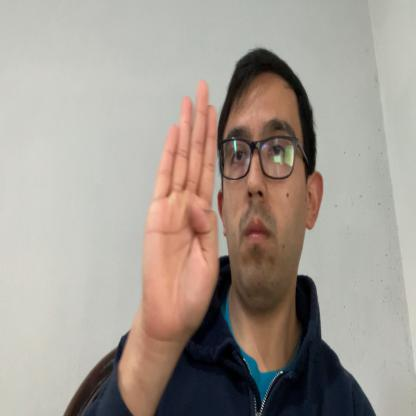B: (142, 76, 220, 350)
